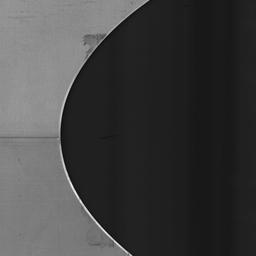Crescent gap: (60, 2, 149, 256)
